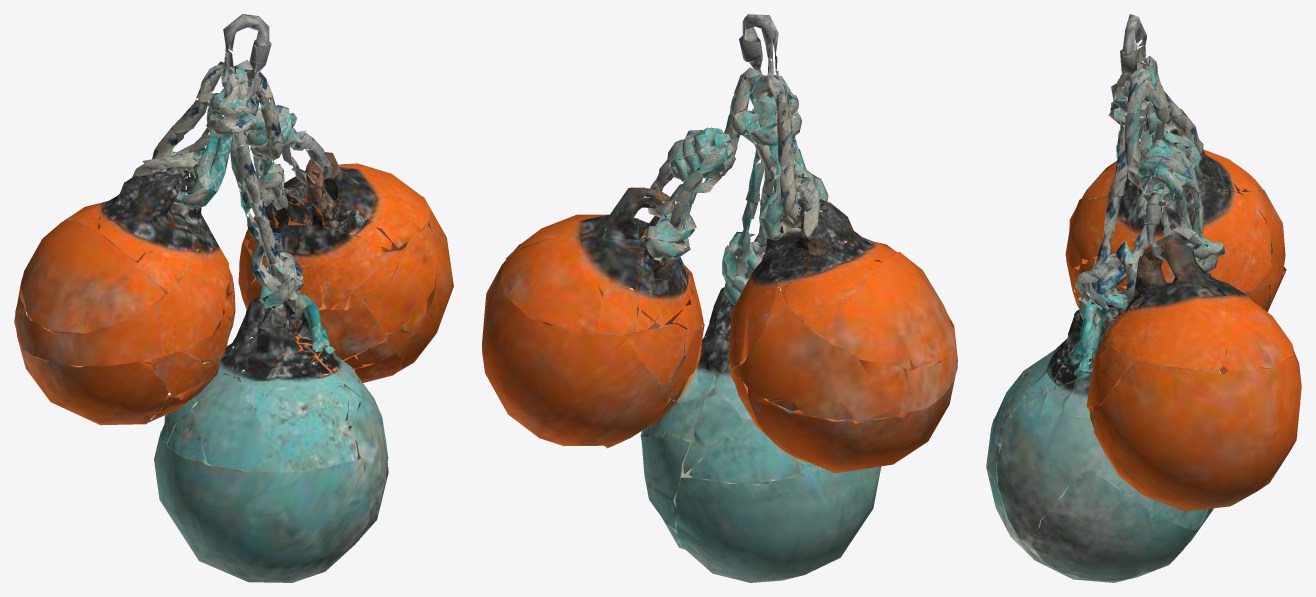
File: buoys.glb
The picture shows the model from 3 angles, left to right: view 1: azimuth 30°, elevation 25°; view 2: azimuth 150°, elevation 25°; view 3: azimuth 270°, elevation 25°; orthographic projection. The views are drawn at different scales.
Visible parts, largest first — view 1: Mesh_0; view 2: Mesh_0; view 3: Mesh_0.
Part boxes in pixels (<box>): Mesh_0: <box>14,14,453,582</box>; Mesh_0: <box>482,14,957,582</box>; Mesh_0: <box>986,14,1301,582</box>.
Bounding box in the file's own units: 1.52 × 1.9 × 0.9872.
1 material, 1 textured.
